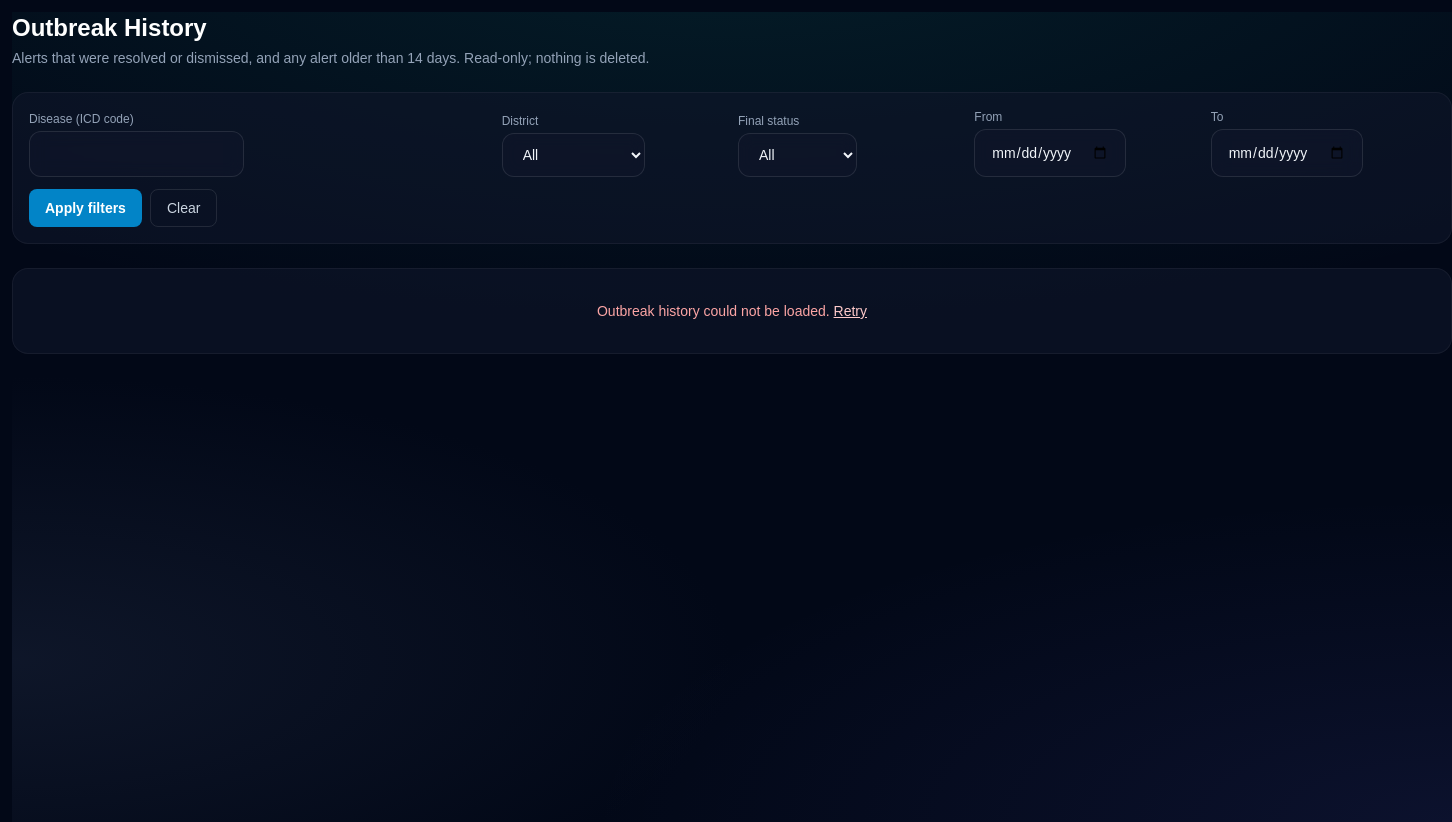
Test case: History: error and empty states are unchanged
Expected: the message "Outbreak history could not be loaded. Retry" is shown, [597,301,867,321]
Click the button "Retry": (850, 311) [834,301,867,321]
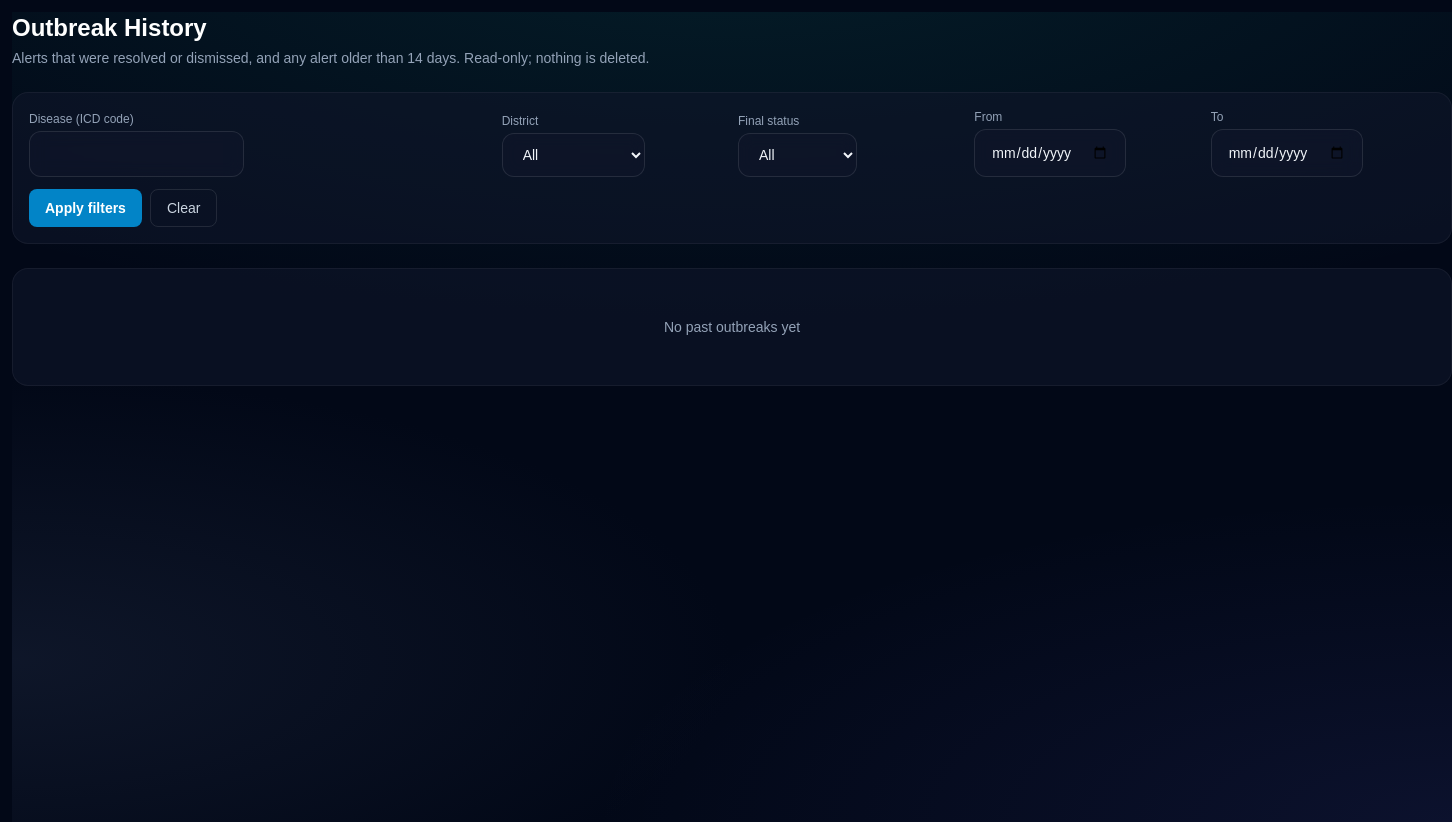
Expected: the text "No past outbreaks yet" is shown, [664,319,800,335]
